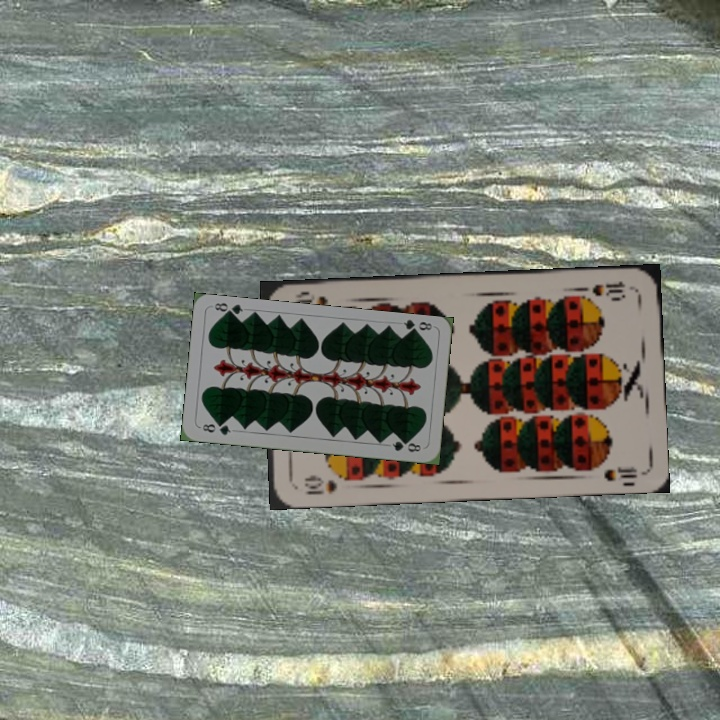G8: (400, 316, 434, 337), (198, 419, 233, 438)
S10: (300, 472, 340, 498), (588, 277, 628, 300)
